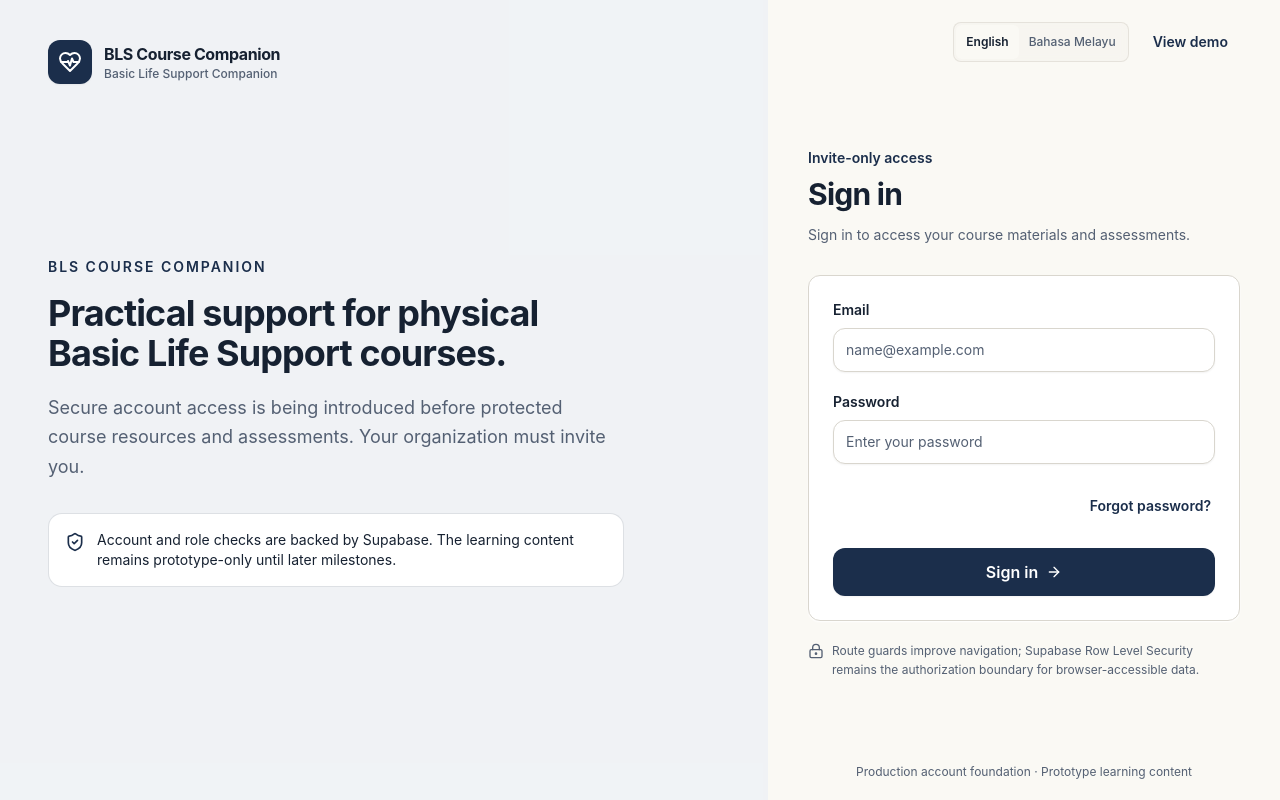
Scenario: LoginPage › announces field validation errors without sending credentials
Click the button "Sign in": (1024, 572) top-left (833, 548), bottom-right (1215, 596)
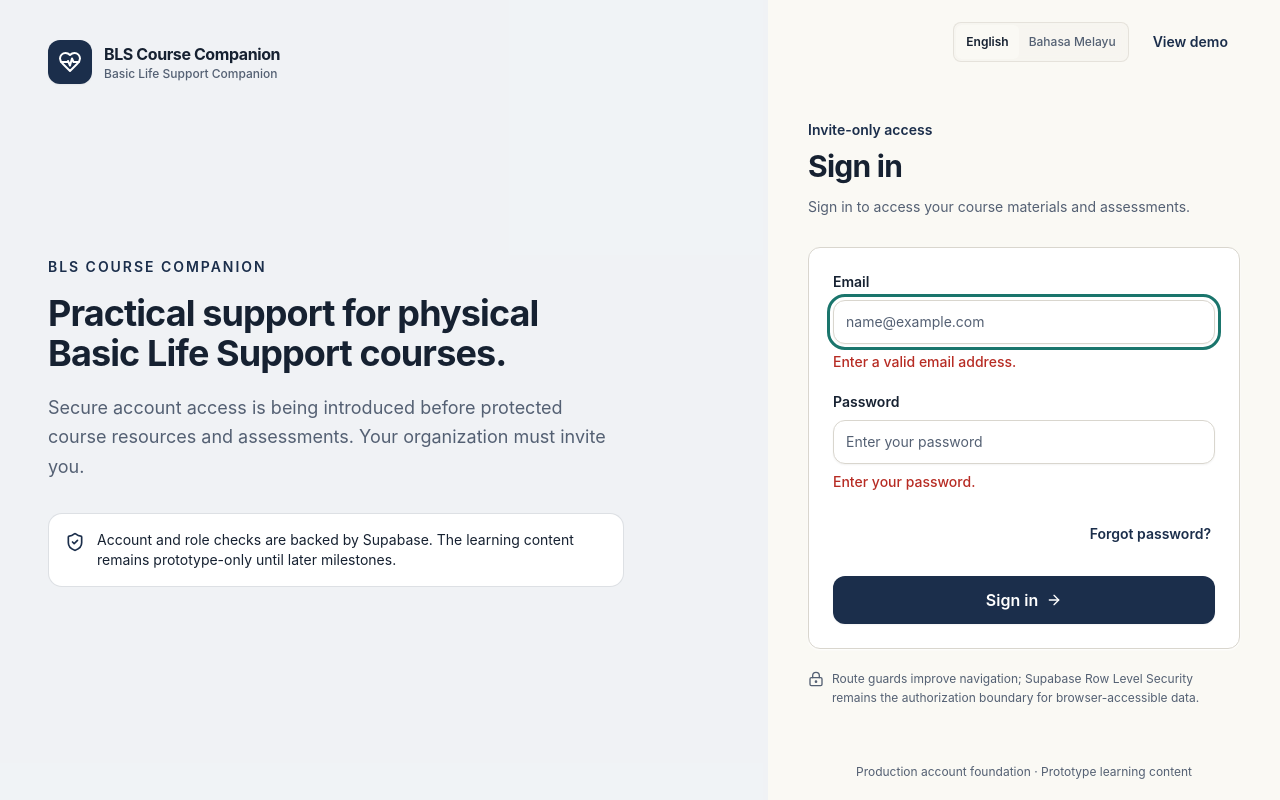
Expected: the text "Enter a valid email address." is shown, top-left (833, 353), bottom-right (1016, 370)
Expected: the text "Enter your password." is shown, top-left (833, 473), bottom-right (975, 490)
